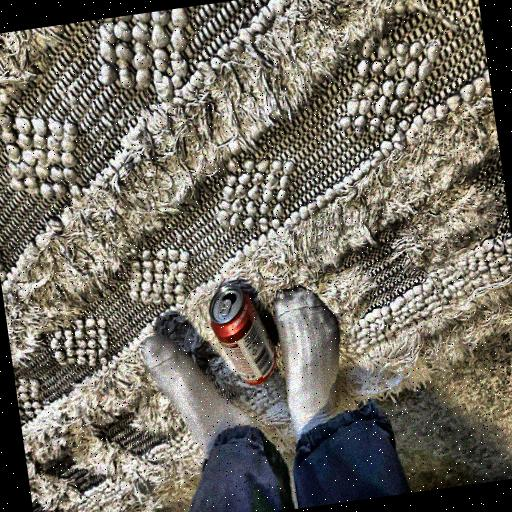koff: (205, 280, 280, 394)
